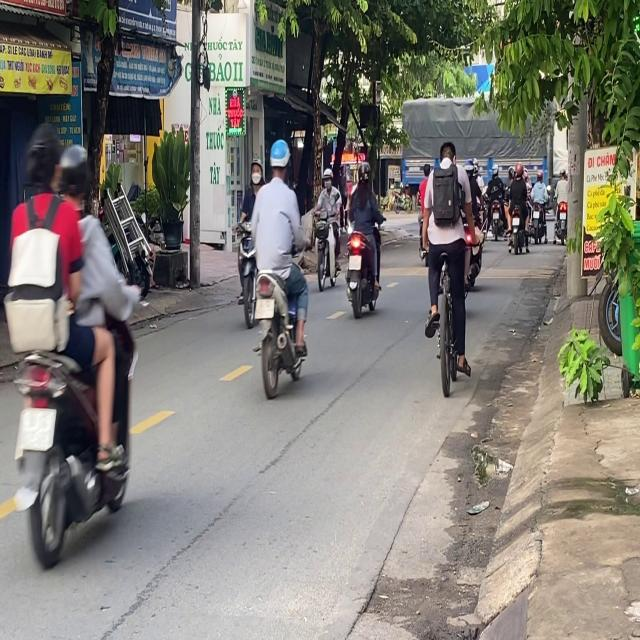helmet: (56, 142, 90, 205), (268, 137, 289, 179), (357, 160, 371, 184), (322, 167, 332, 189)
licenseplate: (0, 124, 140, 565), (245, 136, 310, 396), (344, 158, 383, 316), (312, 166, 343, 290)
motorcyclist: (23, 122, 63, 196)
nohelmet: (18, 408, 55, 449), (255, 298, 274, 318), (348, 254, 360, 270)
